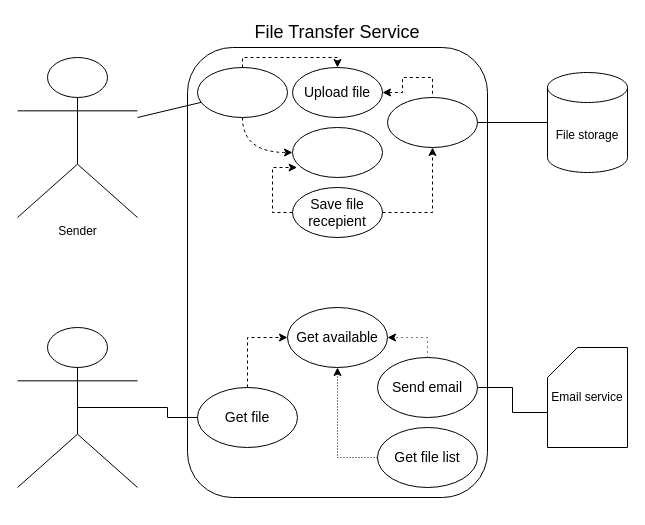
This 645x525 diagram has some shape labels left out. The box of each missing label's shape, as (x1, y1, x2, y2) in pixels:
Recepient: (16, 326, 138, 488)
Send file: (196, 66, 288, 118)
Specify recepient: (292, 126, 382, 178)
Store file: (386, 96, 478, 148)
